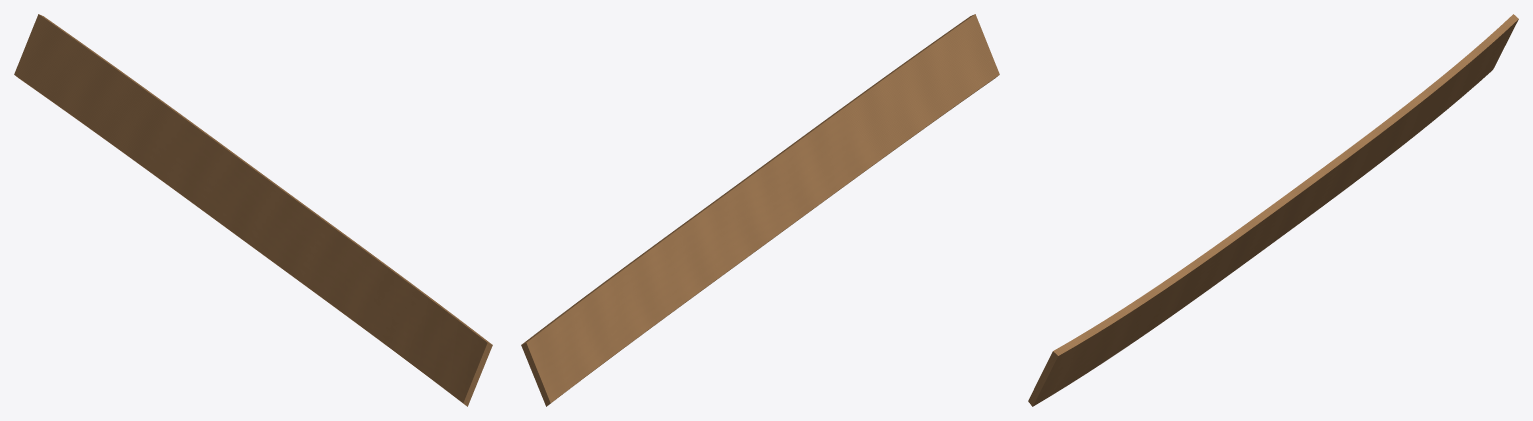
The model's file is repair_plank.glb.
3 renders of one model, left to right at view 1: azimuth 30°, elevation 25°; view 2: azimuth 150°, elevation 25°; view 3: azimuth 330°, elevation 25°, orthographic. The views are drawn at different scales.
Visible parts, largest first — view 1: repair_plank; view 2: repair_plank; view 3: repair_plank.
Part boxes in pixels (<box>): repair_plank: <box>14,14,492,406</box>; repair_plank: <box>521,14,999,406</box>; repair_plank: <box>1028,14,1518,406</box>.
Bounding box in the file's own units: 0.1331 × 0.2149 × 2.73.
1 material, 1 textured.
